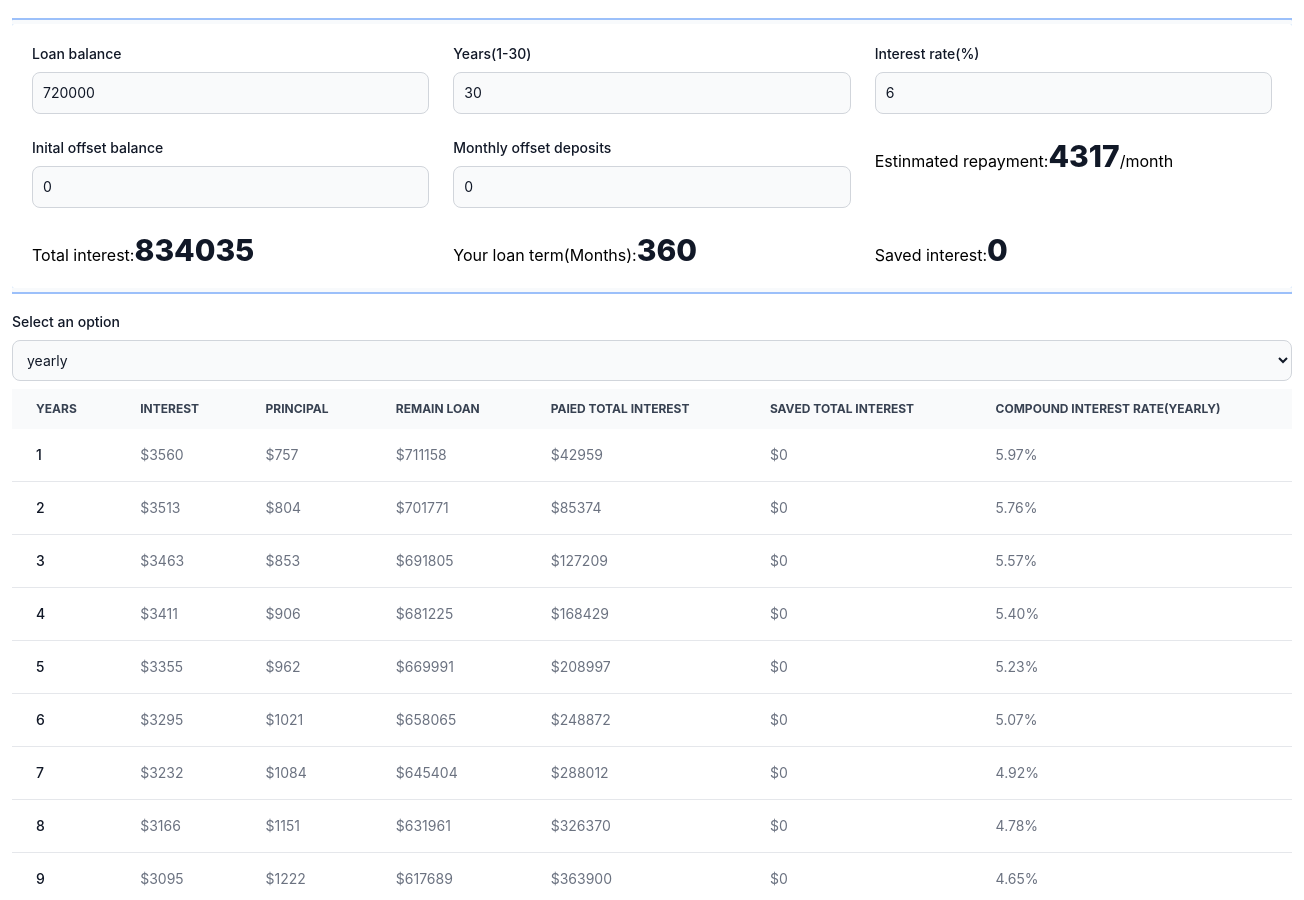
Test case: interest rate less than 0, display error message
Replace the text in the number field labelled "Interest rate(%)" with "-0.5" at (1073, 93), box [875,72,1272,114]
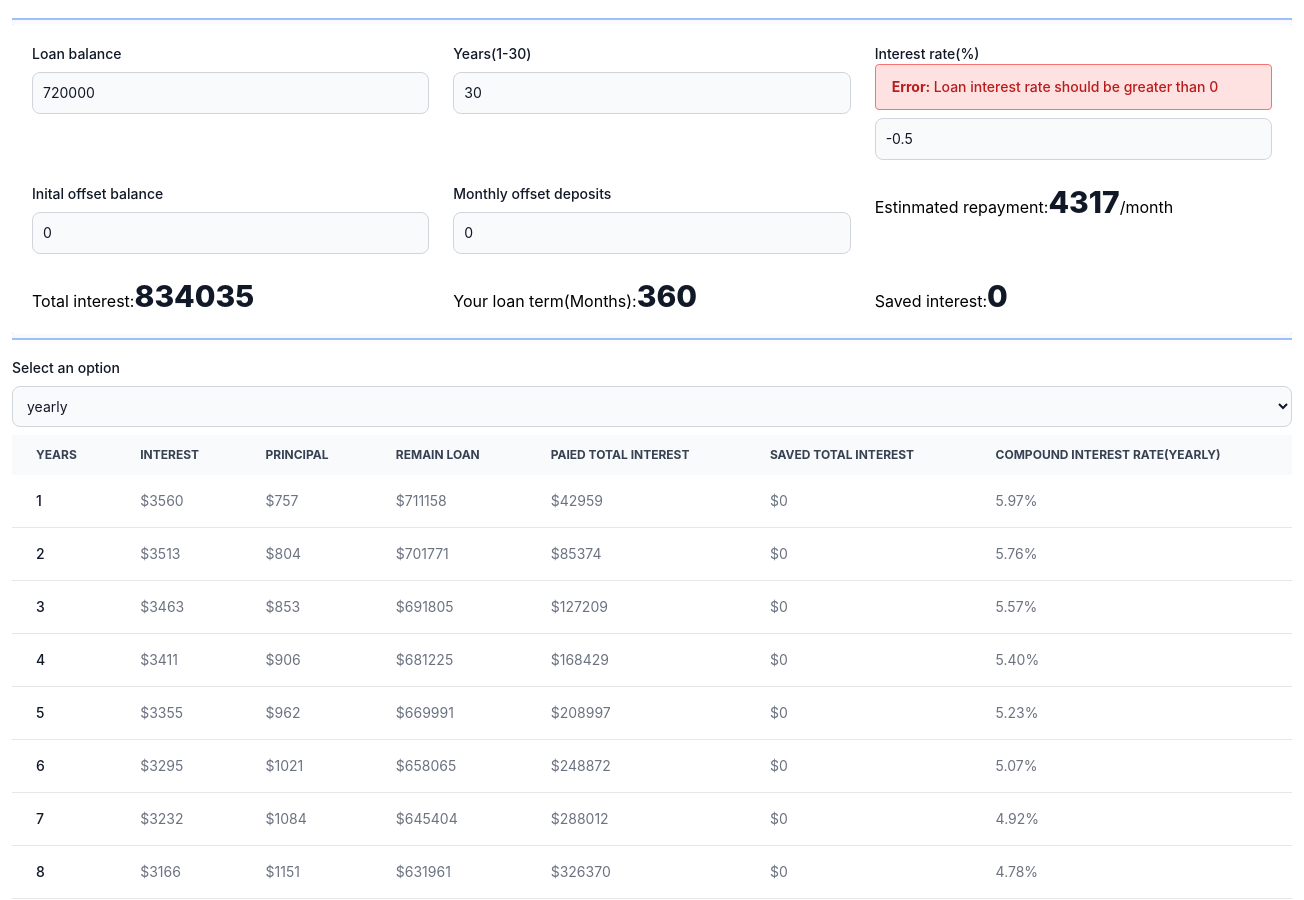
Now the text "Error:" is shown, box [892,78,934,95]
